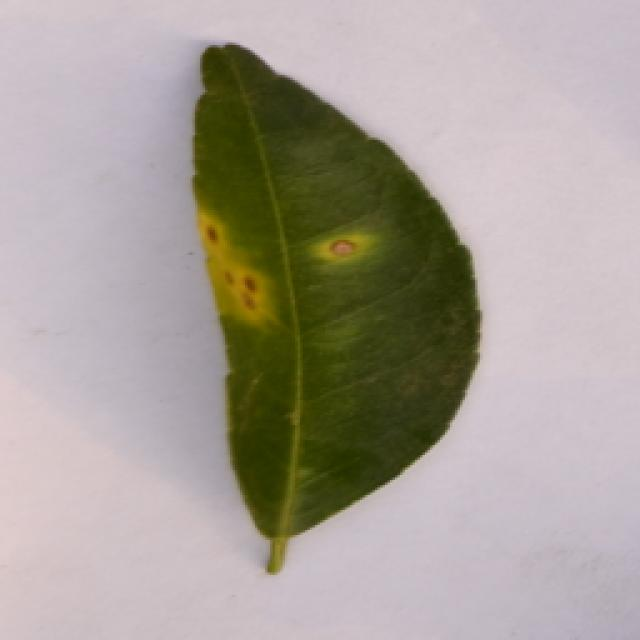canker: (182, 42, 413, 534)
